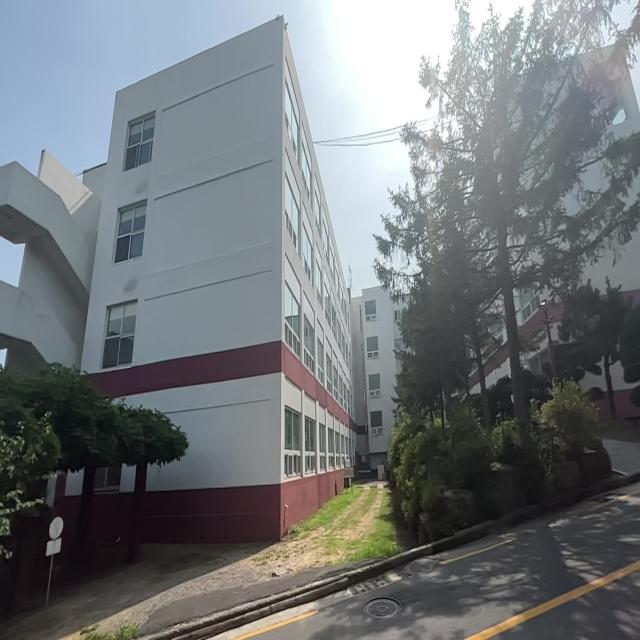building: (8, 26, 384, 546)
